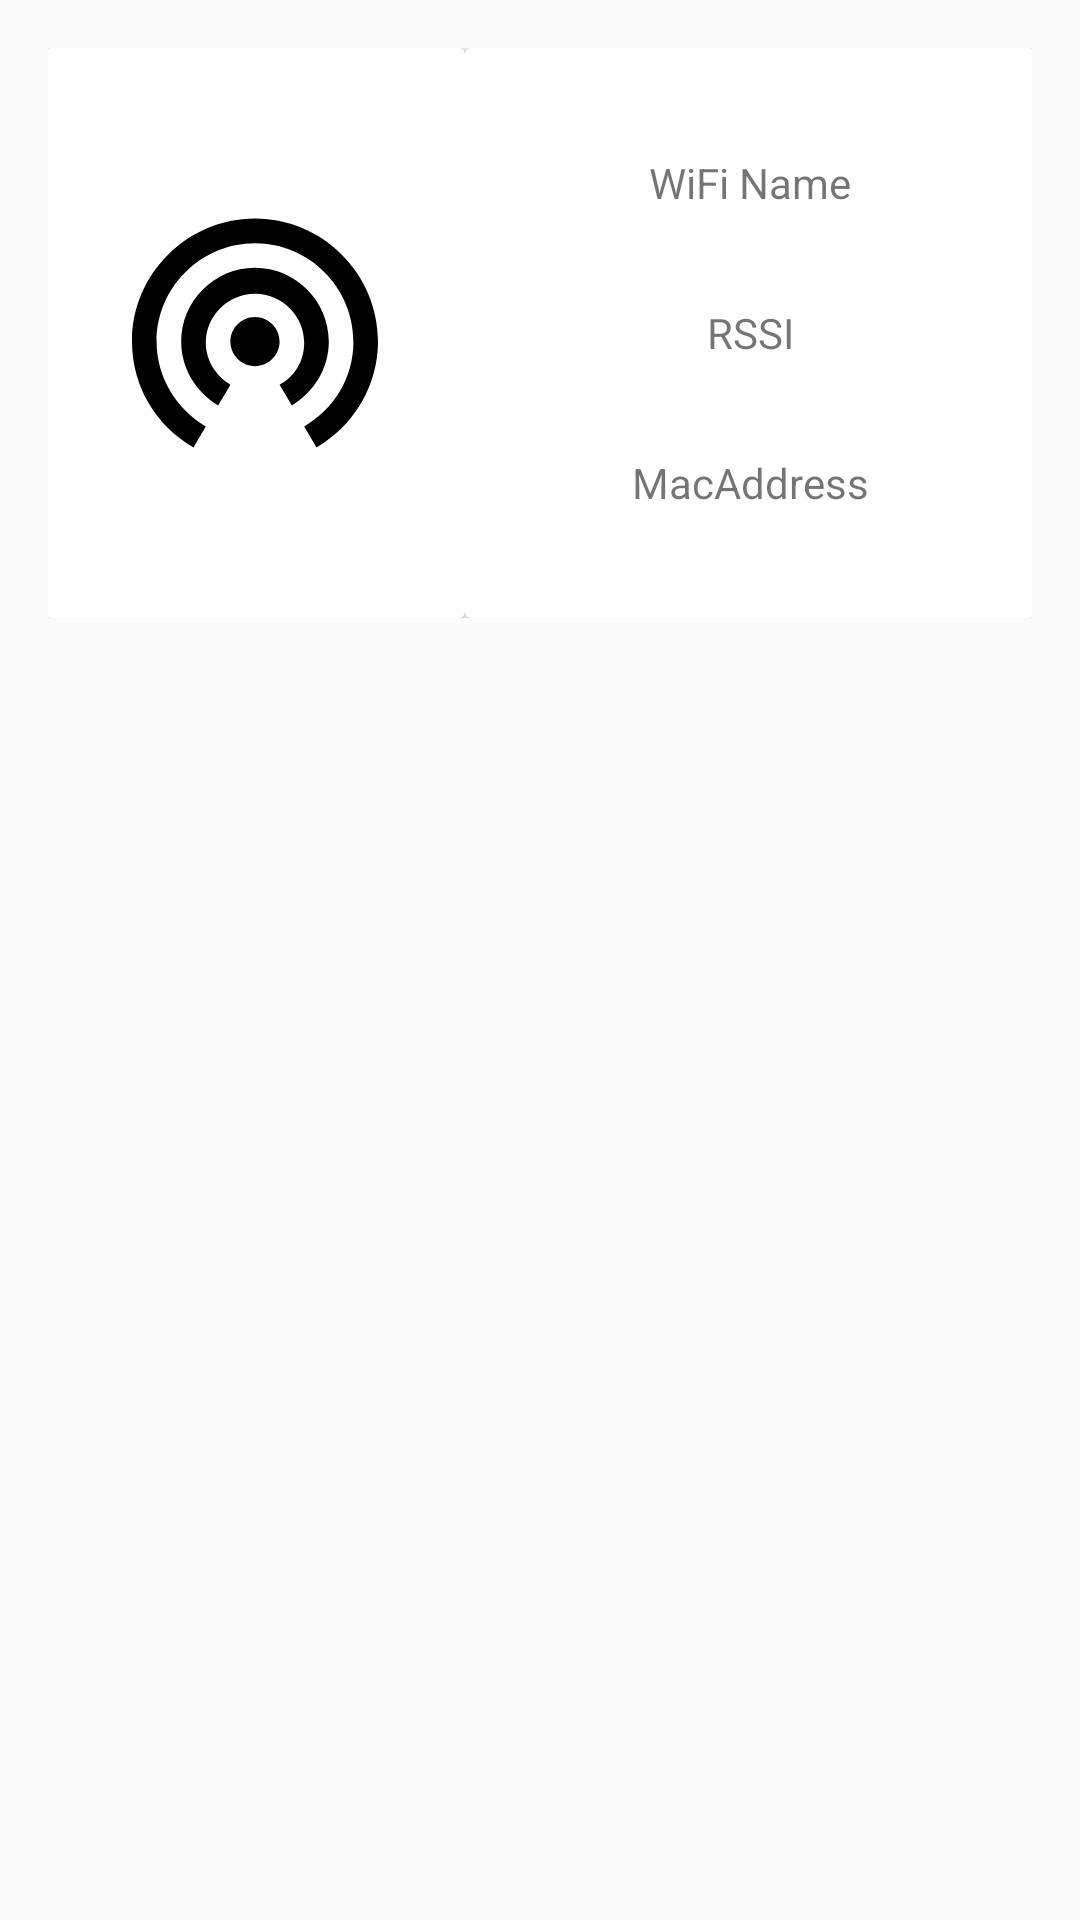

Named icons in this screenshot (1080x1920) and their centers, point (x, y):
wifi signal waves: point (255, 333)
